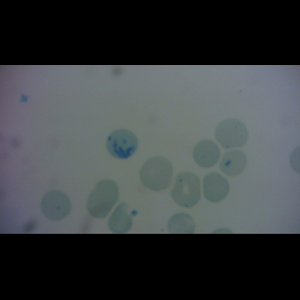aggregate reticulocyte: (106, 128, 139, 160)
erythrocyte: (86, 178, 120, 218), (138, 155, 174, 192), (107, 200, 140, 234), (201, 171, 231, 204), (191, 139, 222, 170), (219, 149, 248, 177)
punctate reticulocyte: (214, 117, 250, 151), (170, 171, 202, 209), (39, 190, 71, 222)
